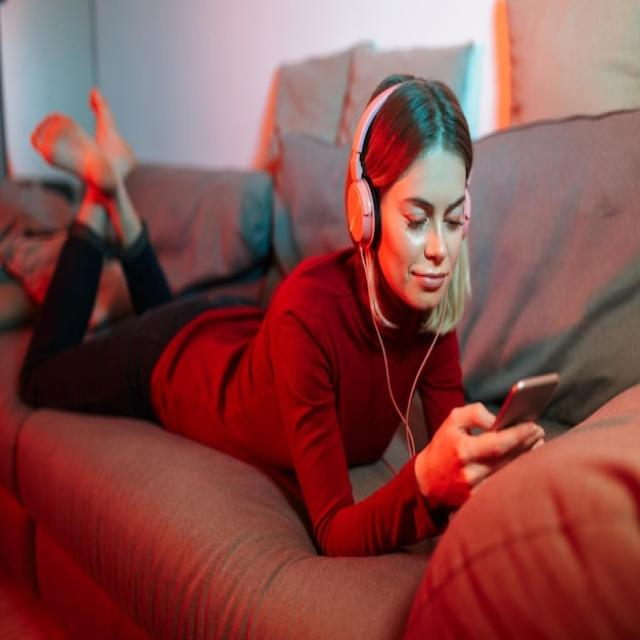Headphone: (345, 82, 474, 255)
